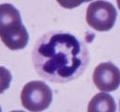N: (32, 32, 90, 82)
